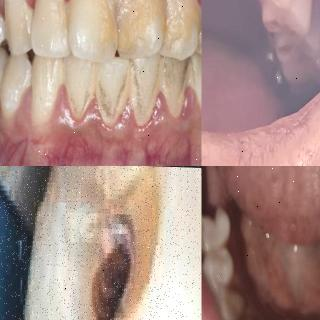Gum Swelling: (30, 84, 202, 138)
calculus: (66, 0, 116, 60), (117, 0, 165, 54), (164, 0, 202, 50), (35, 0, 65, 55), (145, 63, 171, 125), (116, 67, 140, 127), (174, 63, 198, 119), (86, 59, 102, 111)
cavities: (56, 176, 180, 320), (202, 193, 232, 250)
stains: (130, 57, 156, 131), (99, 62, 127, 128), (162, 56, 190, 112), (66, 69, 92, 129)
